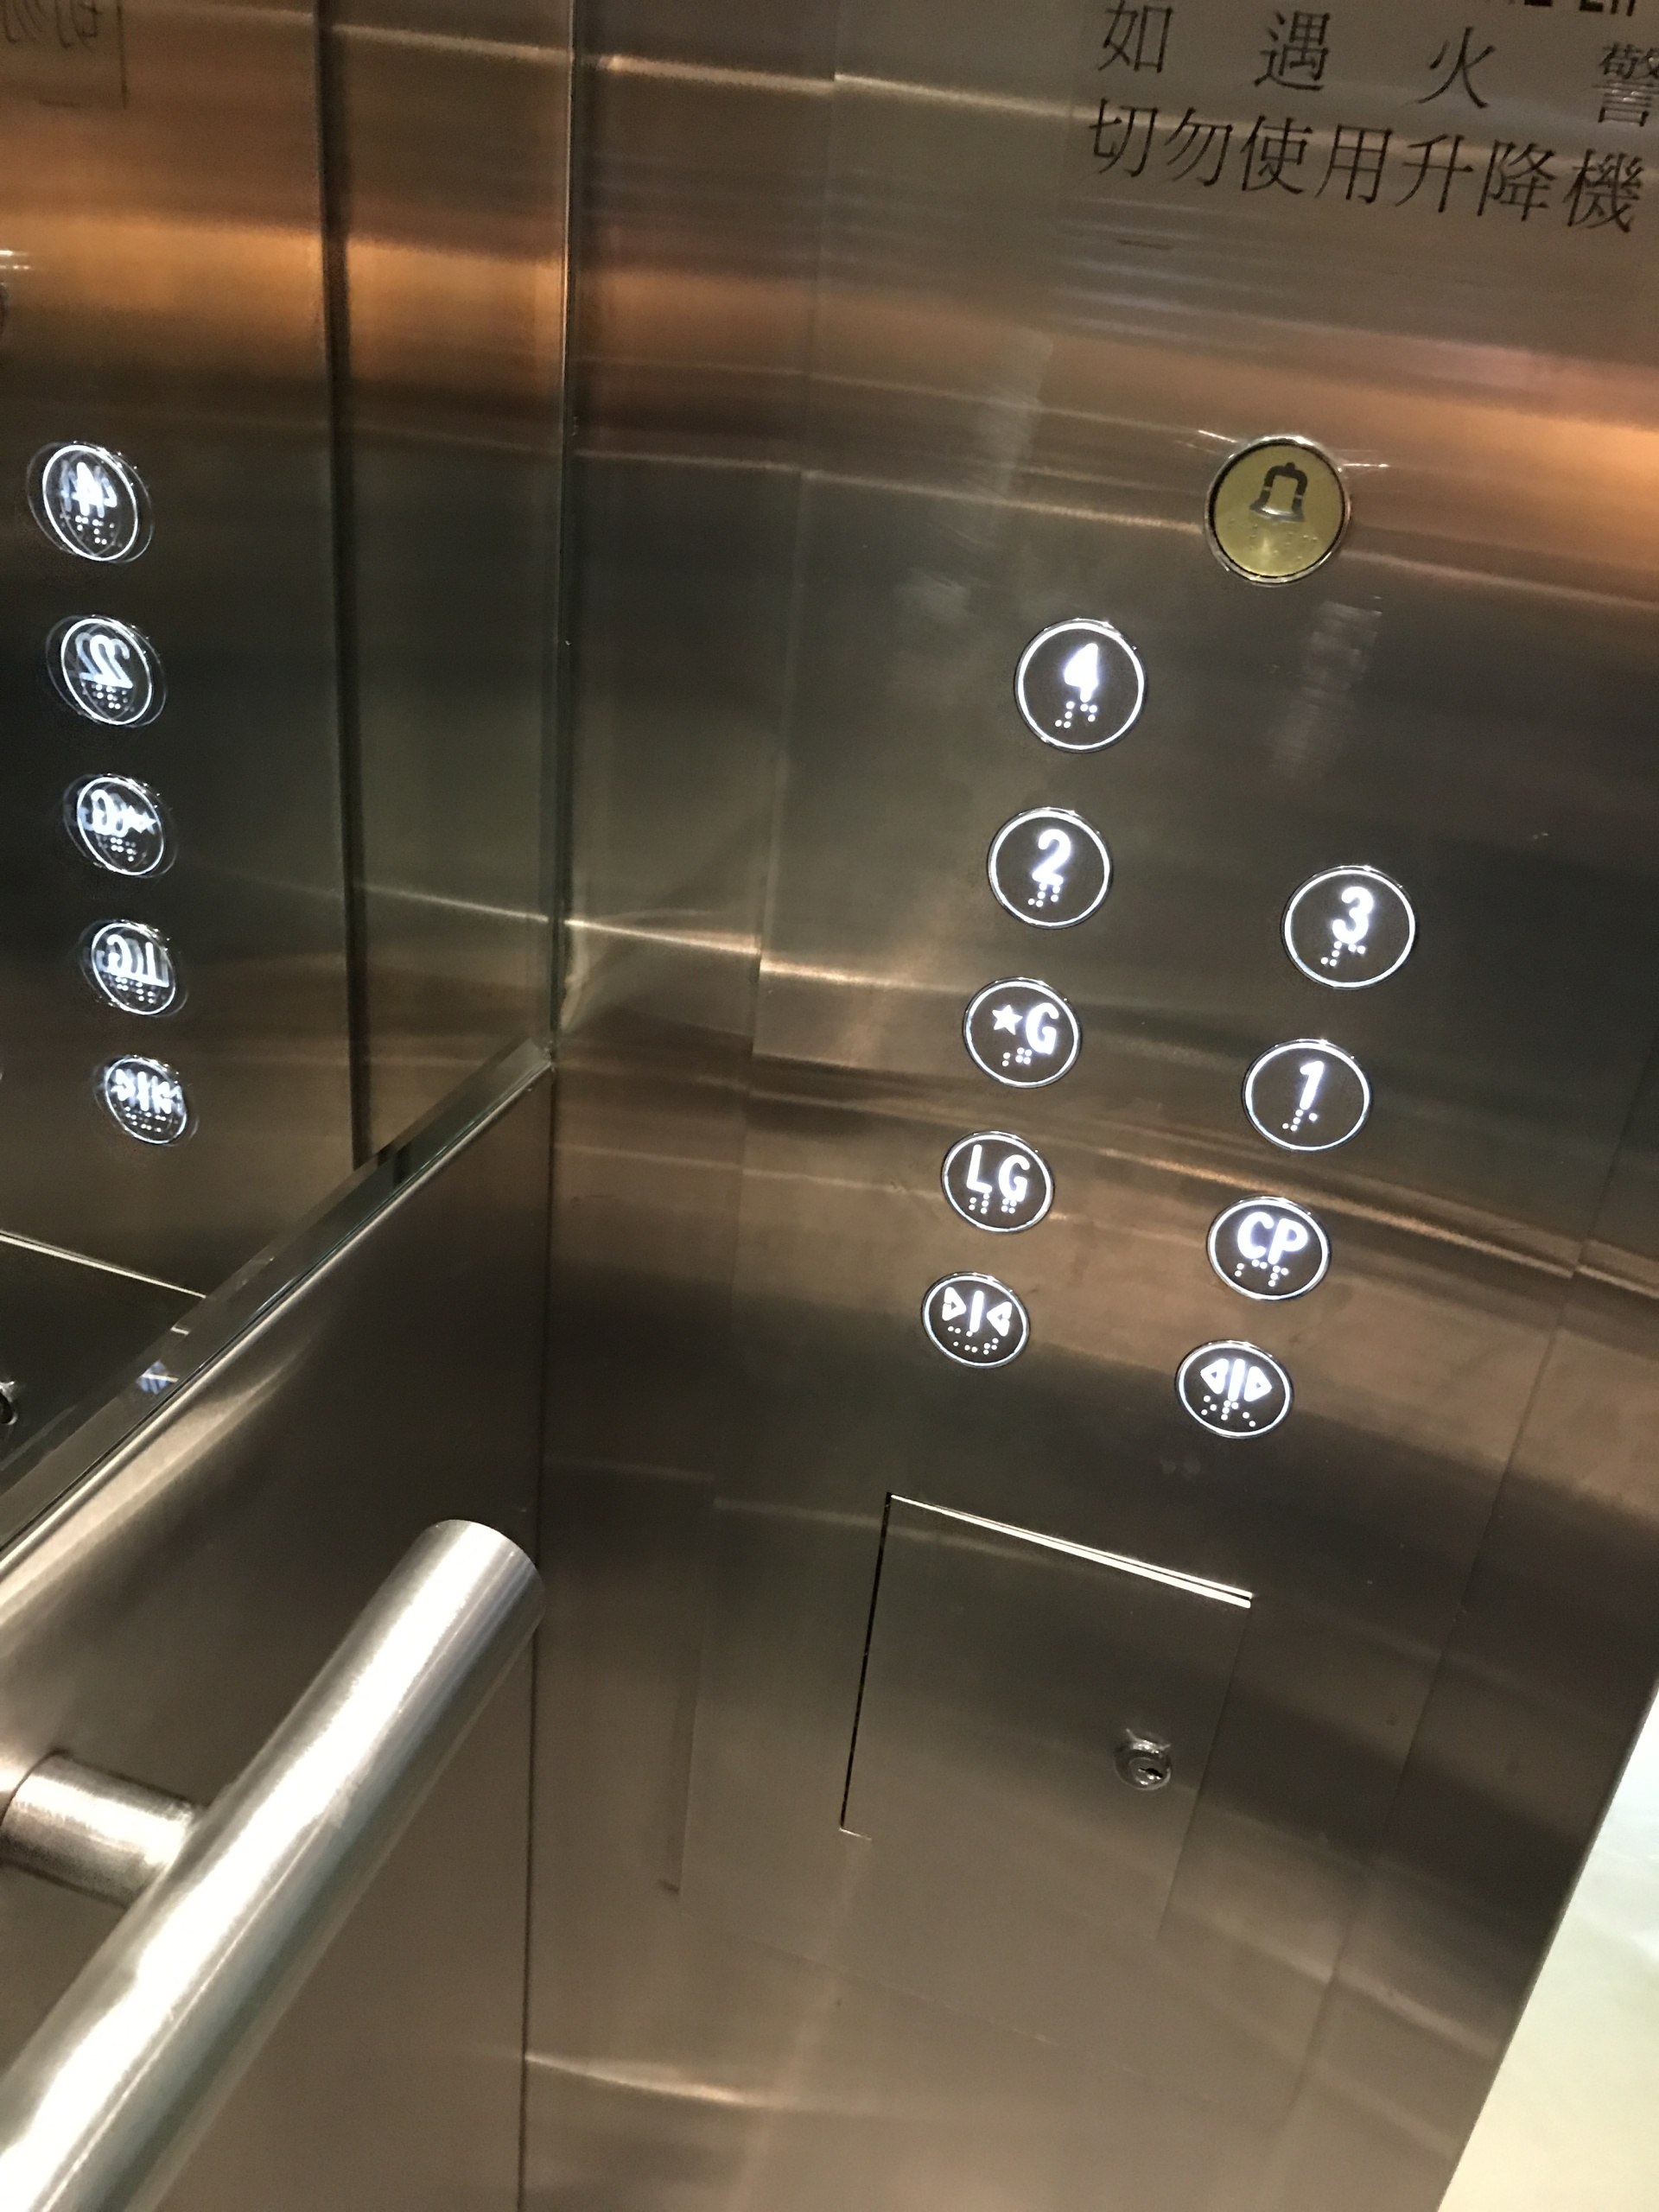1: (1237, 1035, 1373, 1155)
2: (983, 799, 1117, 930)
3: (1277, 860, 1419, 988)
4: (1014, 615, 1147, 754)
CP: (1204, 1193, 1333, 1305)
LG: (936, 1125, 1058, 1237)
alarm: (1199, 430, 1354, 590)
close: (917, 1266, 1033, 1371)
open: (1169, 1336, 1297, 1442)
sG: (958, 970, 1084, 1090)
unknown: (30, 437, 150, 568), (49, 610, 167, 732), (61, 766, 179, 883), (85, 918, 192, 1019), (94, 1047, 200, 1148)
